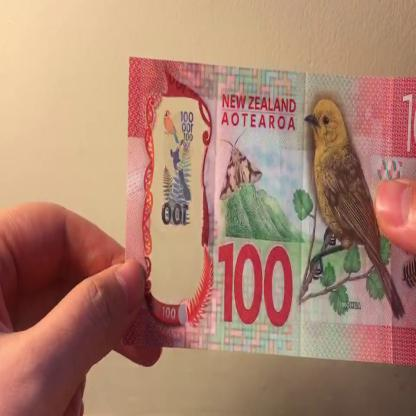100B: (158, 103, 198, 278)
